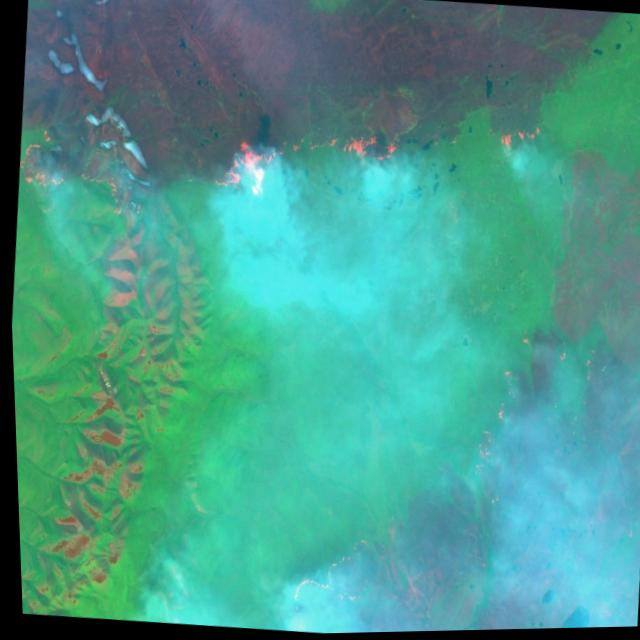fire: (201, 113, 403, 212), (12, 109, 142, 215), (484, 107, 549, 162)
